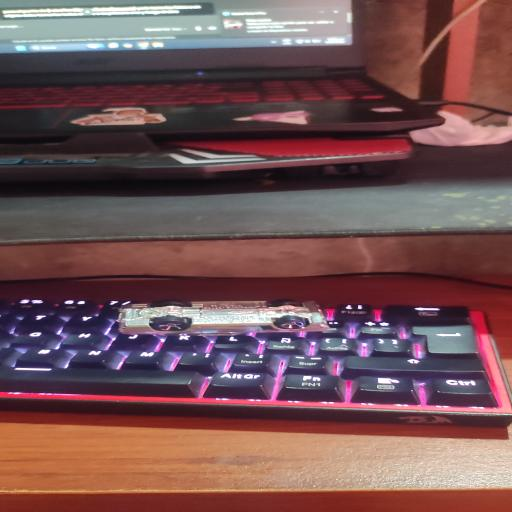Carrito: (118, 301, 328, 335)
